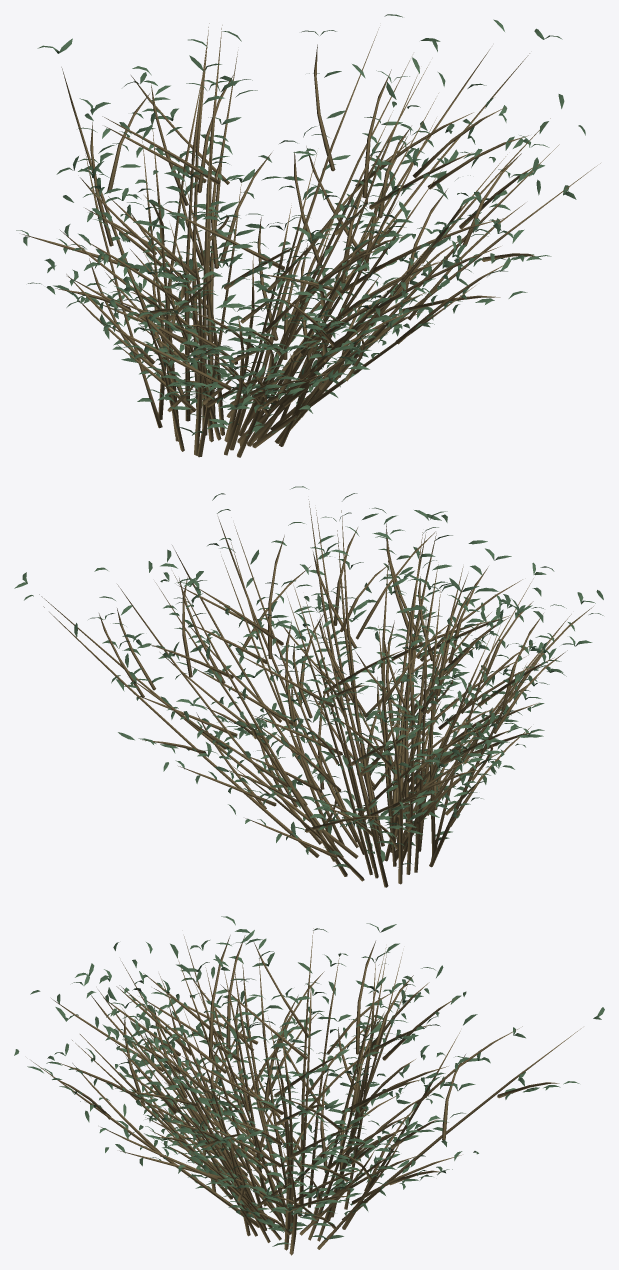
The model's file is Romarin_Incline_LOD1.fbx.
3 renders of one model, top to bottom at view 1: azimuth 30°, elevation 25°; view 2: azimuth 150°, elevation 25°; view 3: azimuth 270°, elevation 25°, orthographic. The views are drawn at different scales.
Visible parts, largest first — view 1: Romarin_Incline_LOD1; view 2: Romarin_Incline_LOD1; view 3: Romarin_Incline_LOD1.
Boxes of the visible parts, box(x1,y1,x2,y2) form: Romarin_Incline_LOD1: box(16, 14, 600, 457); Romarin_Incline_LOD1: box(14, 486, 603, 887); Romarin_Incline_LOD1: box(14, 916, 604, 1255).
Size of the model in its own units: 93.06 by 58.3 by 102.
